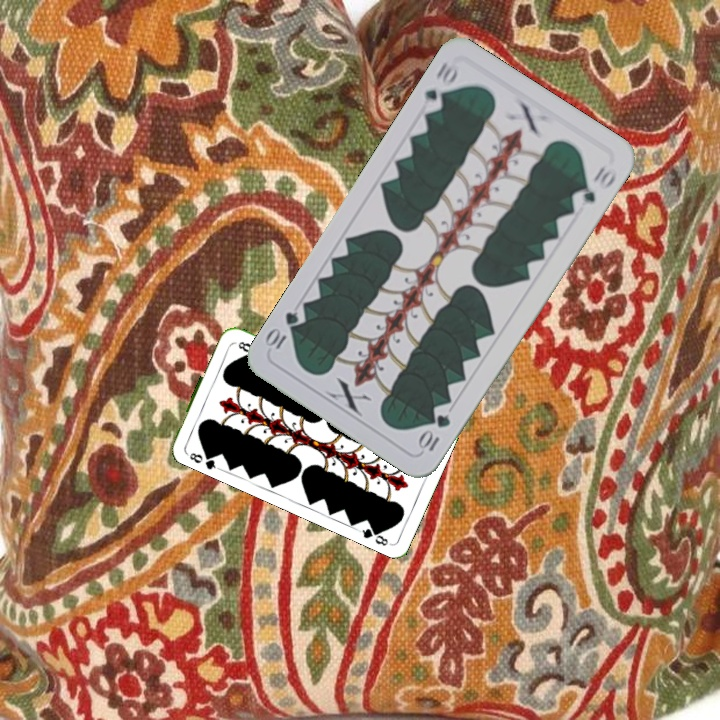G10: (418, 58, 462, 116), (415, 410, 454, 455)
G8: (182, 447, 220, 472)
